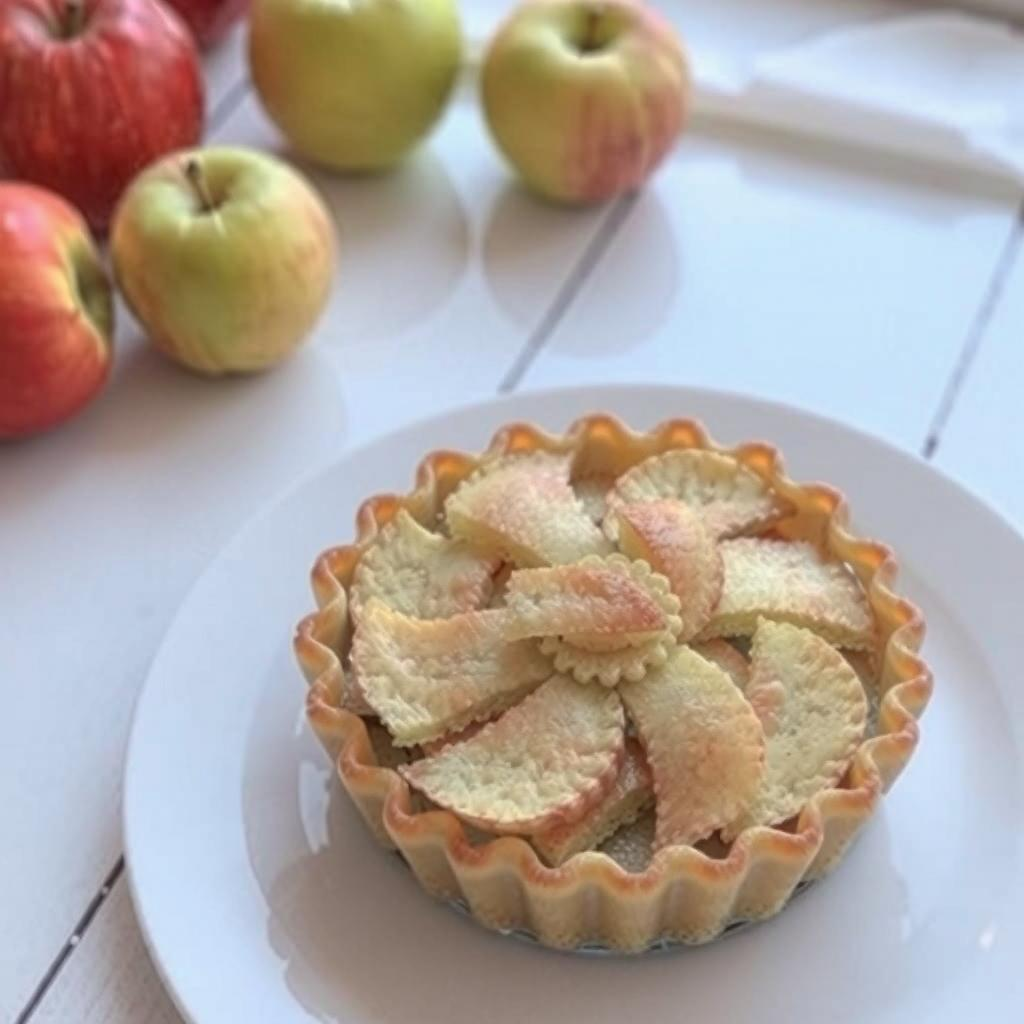cake: (290, 407, 947, 959)
